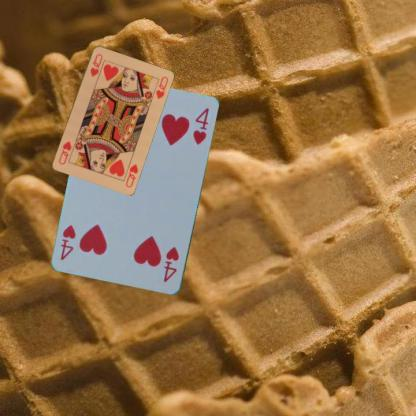4h: (161, 244, 181, 284)
Qh: (87, 51, 104, 77), (123, 162, 139, 188)
